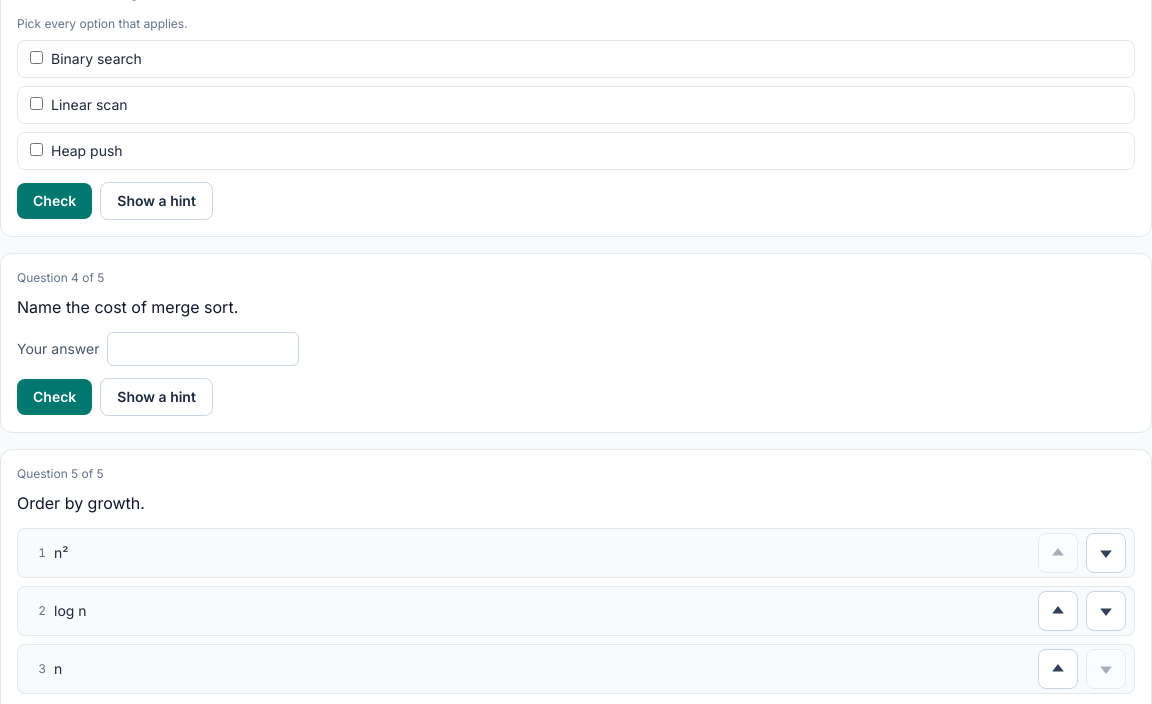
PracticeBlock › accepts a cost formula with free spacing
The width and height of the screenshot is (1152, 704).
(page scrolled)
Step 1. Type "o( N log N )" into the field named "answer" → (204, 349), box [108, 332, 300, 366]
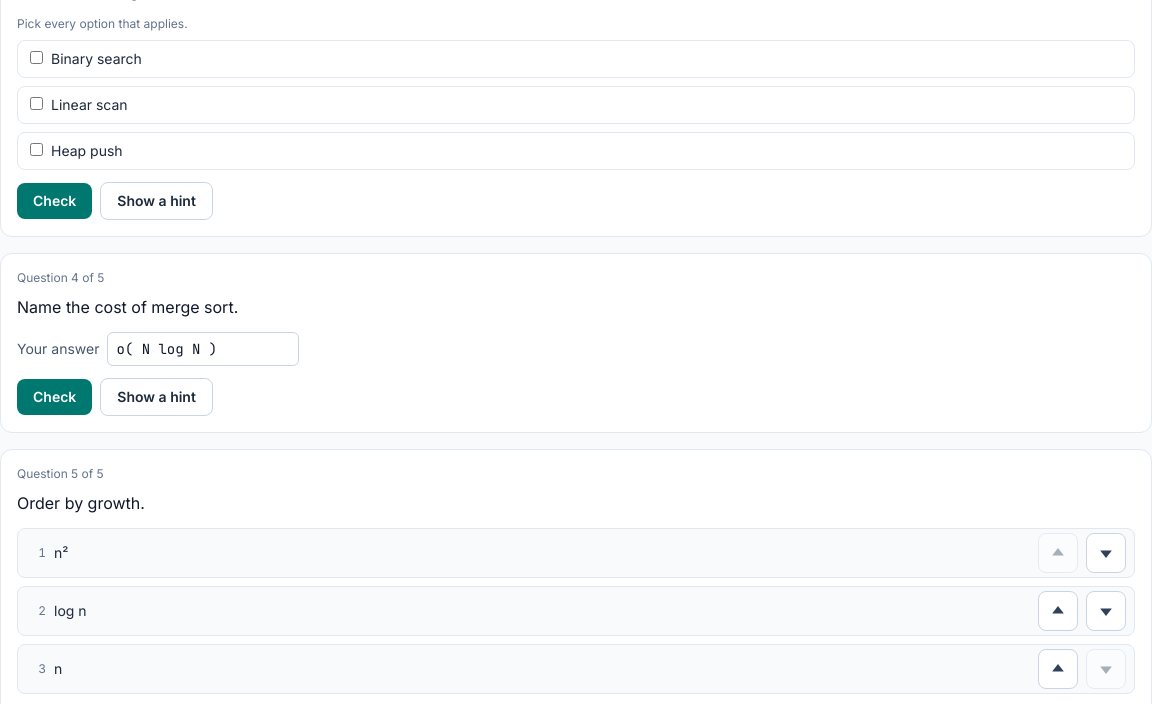
Step 2. Submit the form "Your answer Check Show a hint", box [17, 332, 300, 416]
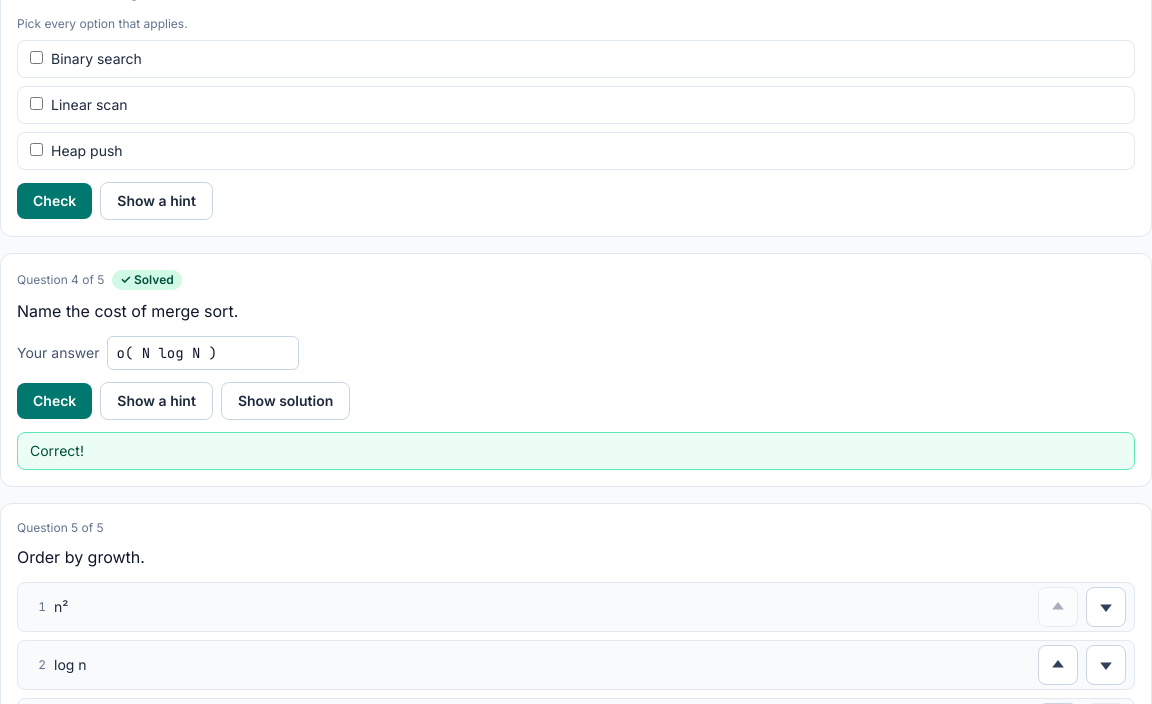
Check: the text "Correct!" is shown, box [17, 432, 1135, 470]
